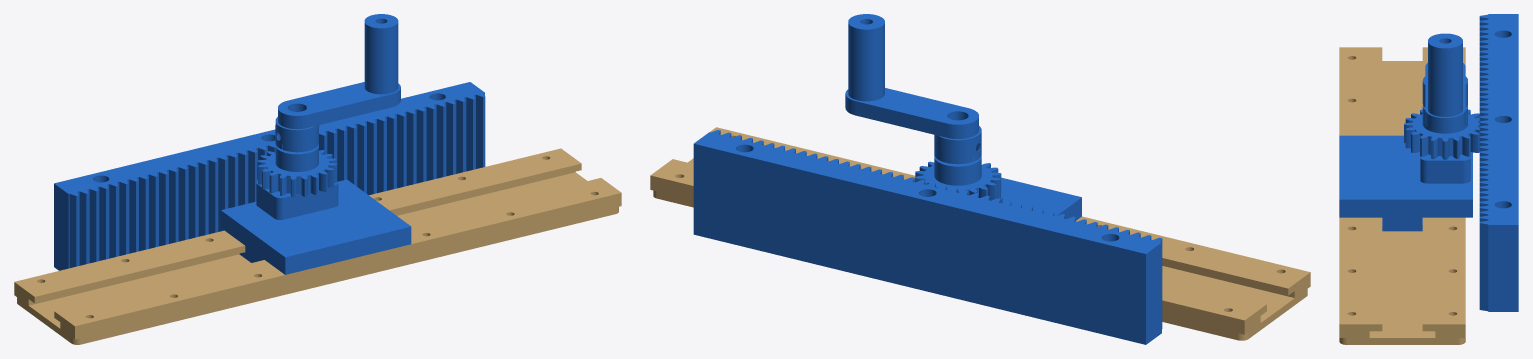
File: m03_baugruppe.glb
The picture shows the model from 3 angles, left to right: view 1: azimuth 30°, elevation 25°; view 2: azimuth 150°, elevation 25°; view 3: azimuth 270°, elevation 25°; orthographic projection. The views are drawn at different scales.
Visible parts, largest first — view 1: M03-P07_1, M03-P03_2, M03-P03_1, M03-P04_1, M03-P01_1, M03-P08_1, M03-P02_2, M03-P06_1, M03-P09_1, M03-P05_1, M03-P02_1; view 2: M03-P07_1, M03-P03_2, M03-P08_1, M03-P03_1, M03-P01_1, M03-P09_1, M03-P06_1, M03-P04_1, M03-P02_1; view 3: M03-P07_1, M03-P04_1, M03-P03_2, M03-P01_1, M03-P03_1, M03-P09_1, M03-P06_1, M03-P05_1, M03-P08_1, M03-P02_1, M03-P02_2.
Part boxes in pixels (<box>): M03-P07_1: <box>54,82,485,270</box>; M03-P03_2: <box>54,178,621,332</box>; M03-P03_1: <box>14,148,581,303</box>; M03-P04_1: <box>221,179,411,274</box>; M03-P01_1: <box>17,172,618,344</box>; M03-P08_1: <box>275,82,400,152</box>; M03-P02_2: <box>60,199,621,339</box>; M03-P06_1: <box>257,144,337,197</box>; M03-P09_1: <box>364,14,398,94</box>; M03-P05_1: <box>256,181,338,219</box>; M03-P02_1: <box>14,171,575,305</box>; M03-P07_1: <box>693,130,1162,344</box>; M03-P03_2: <box>710,127,1310,295</box>; M03-P08_1: <box>845,88,981,164</box>; M03-P03_1: <box>650,159,1266,327</box>; M03-P01_1: <box>653,158,1307,340</box>; M03-P09_1: <box>848,14,884,101</box>; M03-P06_1: <box>914,155,1001,200</box>; M03-P04_1: <box>1001,177,1081,220</box>; M03-P02_1: <box>650,182,1260,334</box>; M03-P07_1: <box>1479,14,1518,311</box>; M03-P04_1: <box>1339,135,1472,231</box>; M03-P03_2: <box>1339,47,1382,331</box>; M03-P01_1: <box>1339,61,1465,344</box>; M03-P03_1: <box>1422,47,1465,331</box>; M03-P09_1: <box>1428,33,1462,116</box>; M03-P06_1: <box>1404,105,1479,159</box>; M03-P05_1: <box>1420,154,1470,183</box>; M03-P08_1: <box>1422,63,1467,131</box>; M03-P02_1: <box>1435,331,1465,337</box>; M03-P02_2: <box>1339,331,1369,337</box>.
Bounding box in the file's own units: 260 × 91 × 71.
